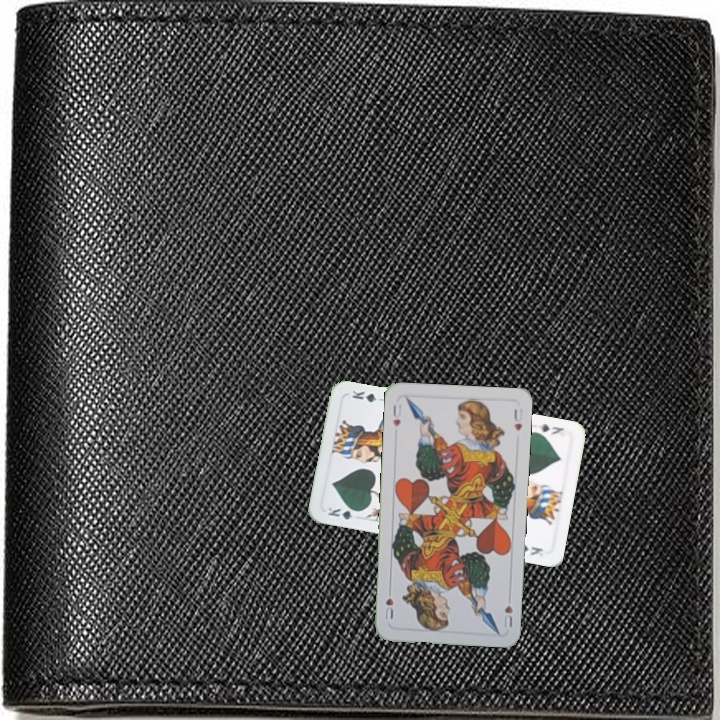GK: (324, 503, 364, 522), (534, 420, 566, 439)
HU: (389, 399, 404, 429), (500, 601, 515, 630)
